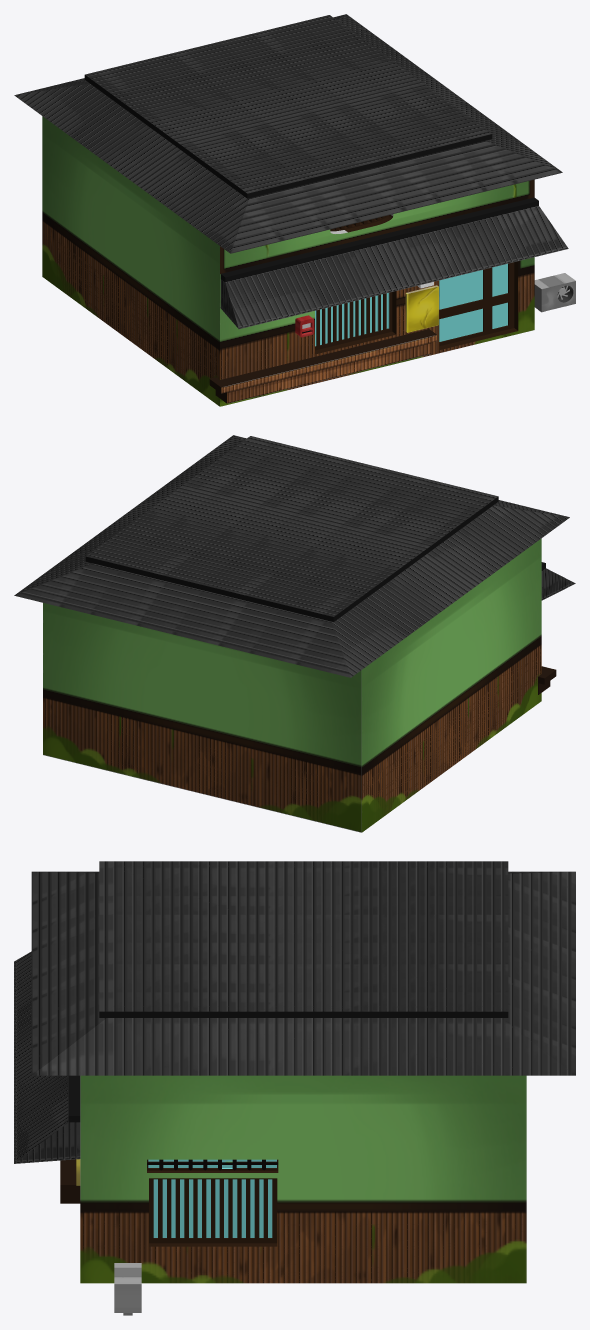
The model's file is House_2_Green_empty.fbx.
The picture shows the model from 3 angles, top to bottom: view 1: azimuth 30°, elevation 25°; view 2: azimuth 150°, elevation 25°; view 3: azimuth 270°, elevation 25°; orthographic projection. The views are drawn at different scales.
Visible parts, largest first — view 1: Top, building, Cube.015, Cube.030, Cube.011, Cube.014, Cube.010, Cube.016, Cube.008; view 2: building, Top, Cube.015; view 3: Top, building, Cube.019, Cube.015, Cube.013, Cube.008, Cube.030.
Boxes of the visible parts, x1,y1,x2,y2 form: Top: (14,14,562,253); building: (42,116,534,406); Cube.015: (220,197,568,329); Cube.030: (209,329,436,403); Cube.011: (439,269,487,346); Cube.014: (315,292,392,350); Cube.010: (487,262,514,334); Cube.016: (405,285,438,332); Cube.008: (534,273,575,312); building: (43,538,541,832); Top: (14,435,569,677); Cube.015: (541,562,575,600); Top: (31,861,575,1075); building: (80,1075,526,1283); Cube.019: (149,1178,277,1243); Cube.015: (14,951,80,1163); Cube.013: (147,1159,278,1170); Cube.008: (114,1263,141,1315); Cube.030: (60,1159,80,1203).
Size of the model in its own units: 1609 by 812 by 1647.
